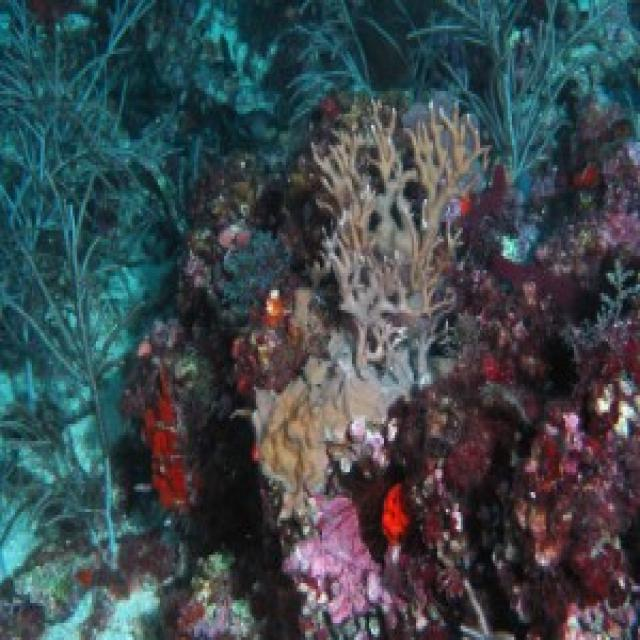Bleached: (255, 101, 487, 530)
Healthy: (391, 146, 639, 638), (144, 160, 291, 519), (285, 499, 391, 621)
